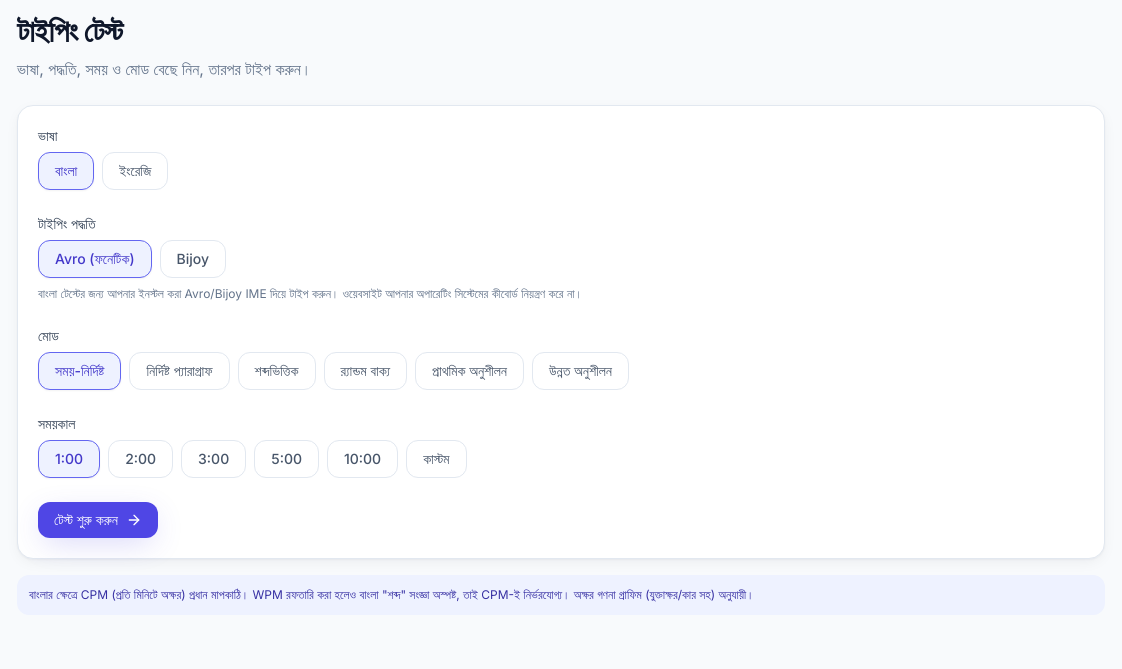
Test: TypingTest configuration › runs a custom-duration test for the chosen number of minutes
Later steps or results of the test are not shown.
Click the radio button labelled "কাস্টম". click: (436, 459)
box: [406,440,466,478]
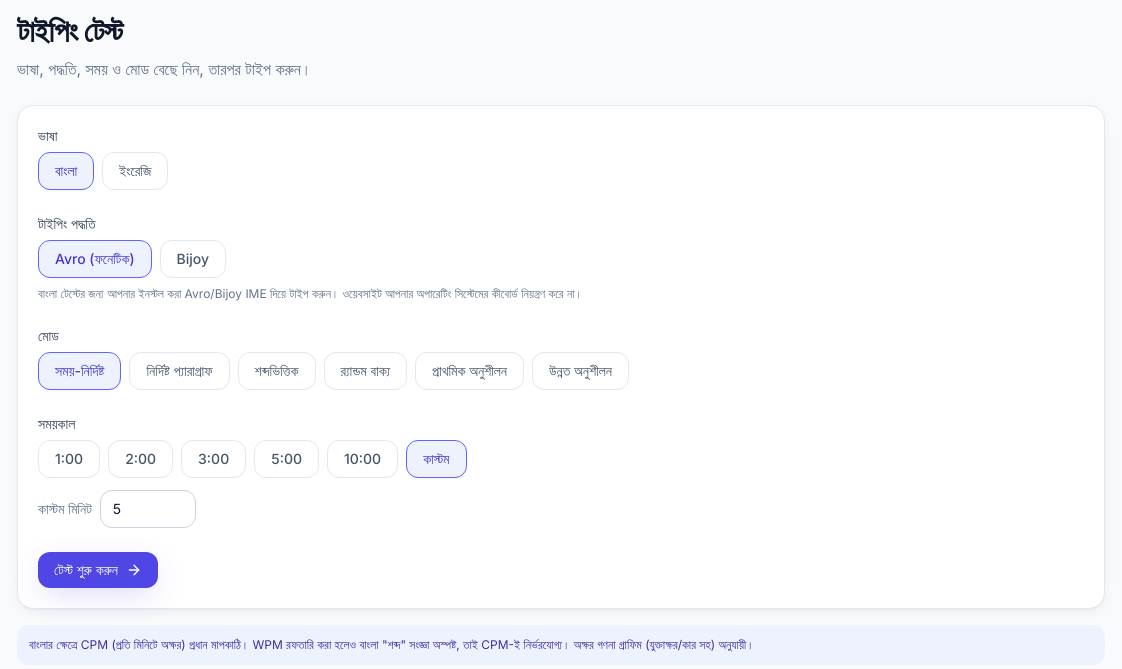
Click the button "টেস্ট শুরু করুন". click: (98, 570)
box: [38,552,158,588]
Wait 302000 ms
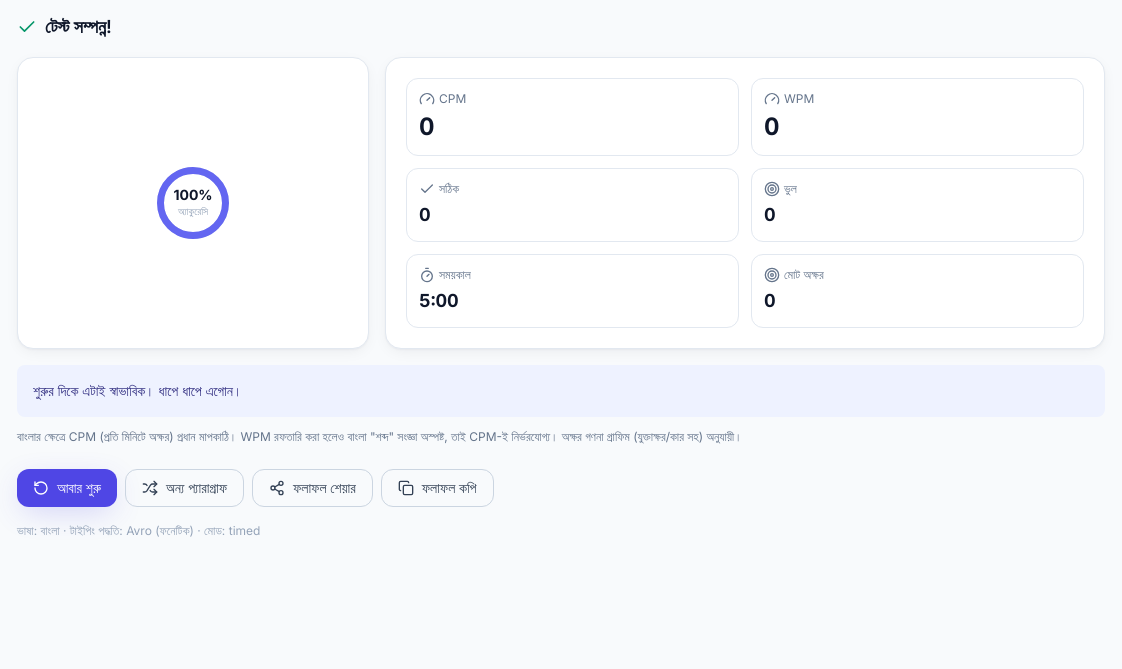
Expected: the text "টেস্ট সম্পন্ন!" is shown, [17,16,112,37]
